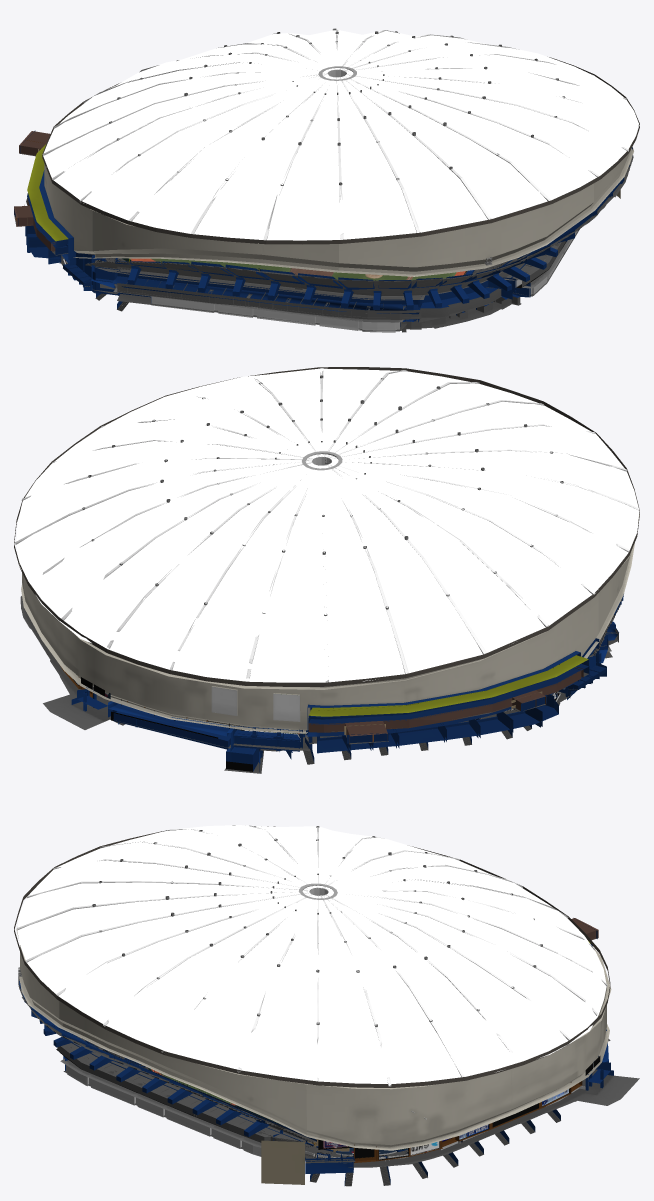
3 renders of one model, top to bottom at view 1: azimuth 30°, elevation 25°; view 2: azimuth 150°, elevation 25°; view 3: azimuth 270°, elevation 25°, orthographic. The views are drawn at different scales.
Visible parts, largest first — view 1: Stadium_TB; view 2: Stadium_TB; view 3: Stadium_TB.
Boxes of the visible parts, bbox=[...] form: Stadium_TB: bbox=[14, 28, 639, 332]; Stadium_TB: bbox=[14, 367, 639, 773]; Stadium_TB: bbox=[14, 825, 639, 1186].
Size of the model in its own units: 211 by 69.28 by 216.
8 materials, 8 textured.
